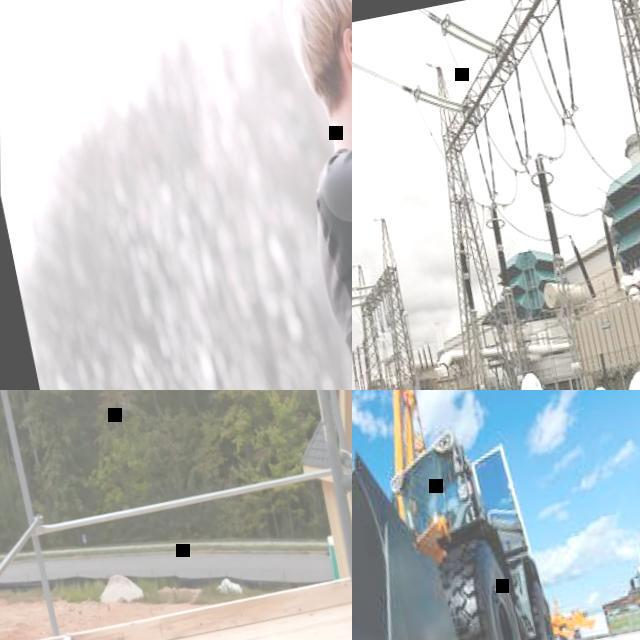helmet: (516, 367, 545, 390), (617, 363, 640, 390)
